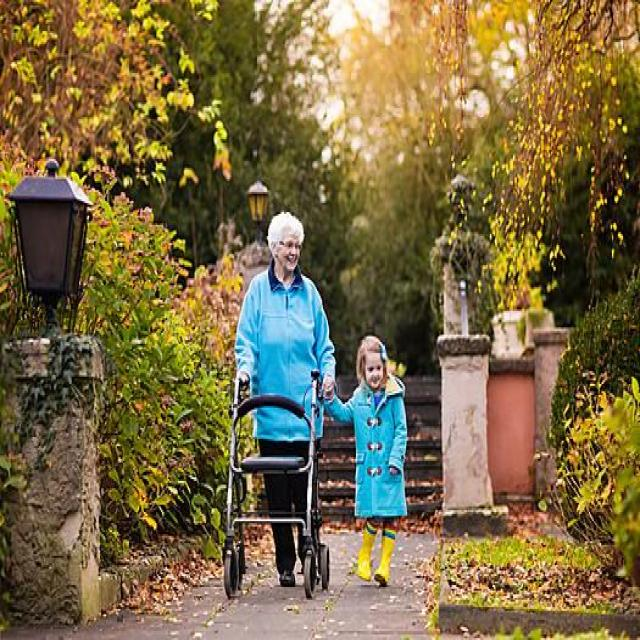wheelchairs: (210, 359, 338, 602)
